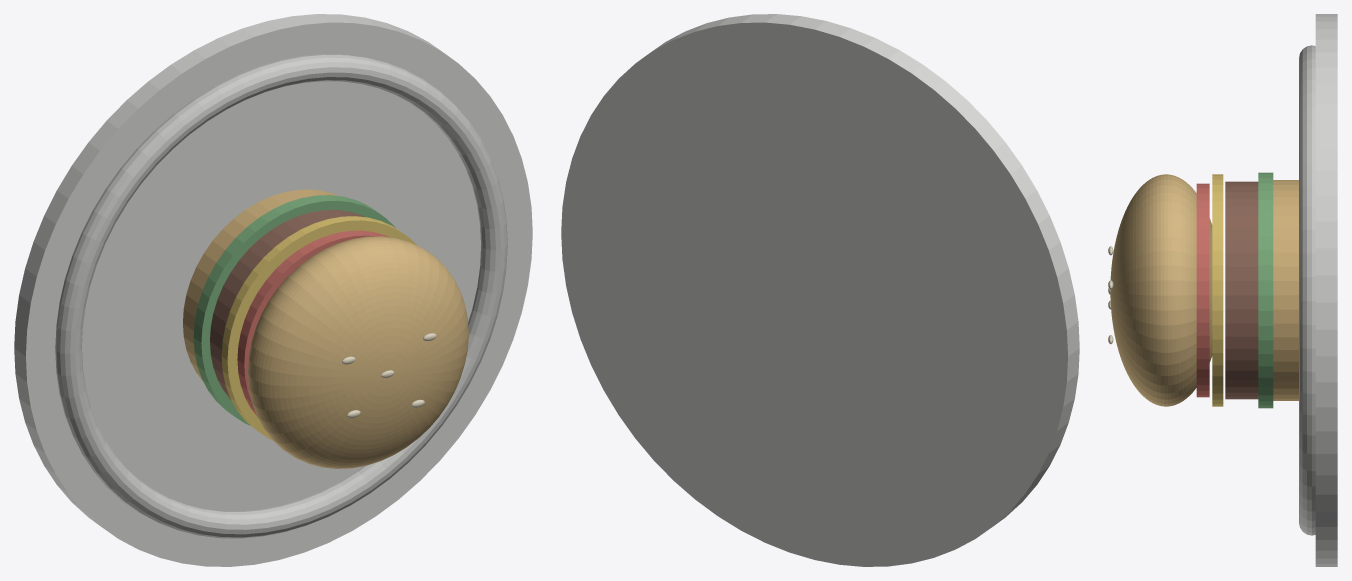
File: classic_burger.glb
3 renders of one model, left to right at view 1: azimuth 30°, elevation 25°; view 2: azimuth 150°, elevation 25°; view 3: azimuth 270°, elevation 25°, orthographic. The views are drawn at different scales.
Parts seen in each view (by area): view 1: plate, top_bun, plate_rim, lettuce, cheese, patty, bottom_bun, tomato; view 2: plate; view 3: top_bun, plate, plate_rim, patty, bottom_bun, lettuce, tomato, cheese.
Boxes of the visible parts, x1=… form: plate: x1=14, y1=14, x2=532, y2=566; top_bun: x1=248, y1=236, x2=468, y2=468; plate_rim: x1=55, y1=54, x2=507, y2=538; lettuce: x1=193, y1=195, x2=395, y2=425; cheese: x1=221, y1=216, x2=417, y2=440; patty: x1=210, y1=210, x2=365, y2=400; bottom_bun: x1=183, y1=189, x2=338, y2=380; tomato: x1=237, y1=230, x2=388, y2=416; plate: x1=561, y1=14, x2=1079, y2=566; top_bun: x1=1110, y1=174, x2=1212, y2=406; plate: x1=1315, y1=14, x2=1337, y2=566; plate_rim: x1=1299, y1=45, x2=1315, y2=535; patty: x1=1225, y1=181, x2=1258, y2=399; bottom_bun: x1=1273, y1=180, x2=1298, y2=400; lettuce: x1=1258, y1=172, x2=1273, y2=408; tomato: x1=1196, y1=183, x2=1209, y2=397; cheese: x1=1212, y1=174, x2=1223, y2=406.
Size of the model in its own units: 0.3 by 0.3 by 0.1244.
